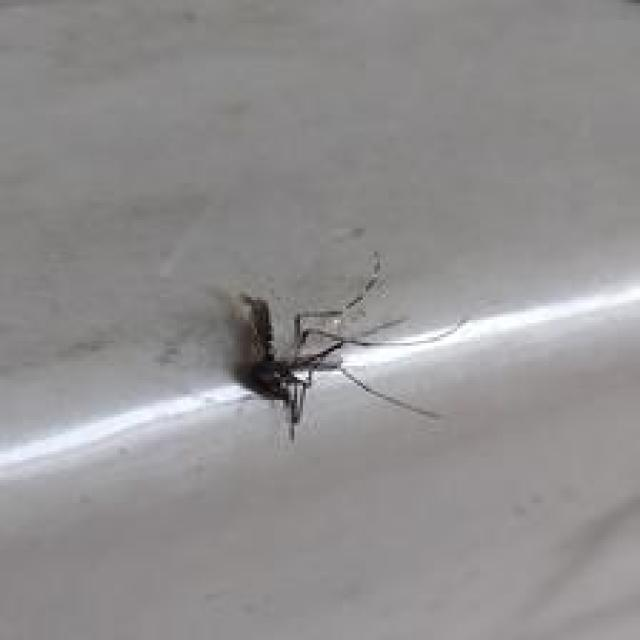Aedes albopictus: (219, 248, 464, 443)
